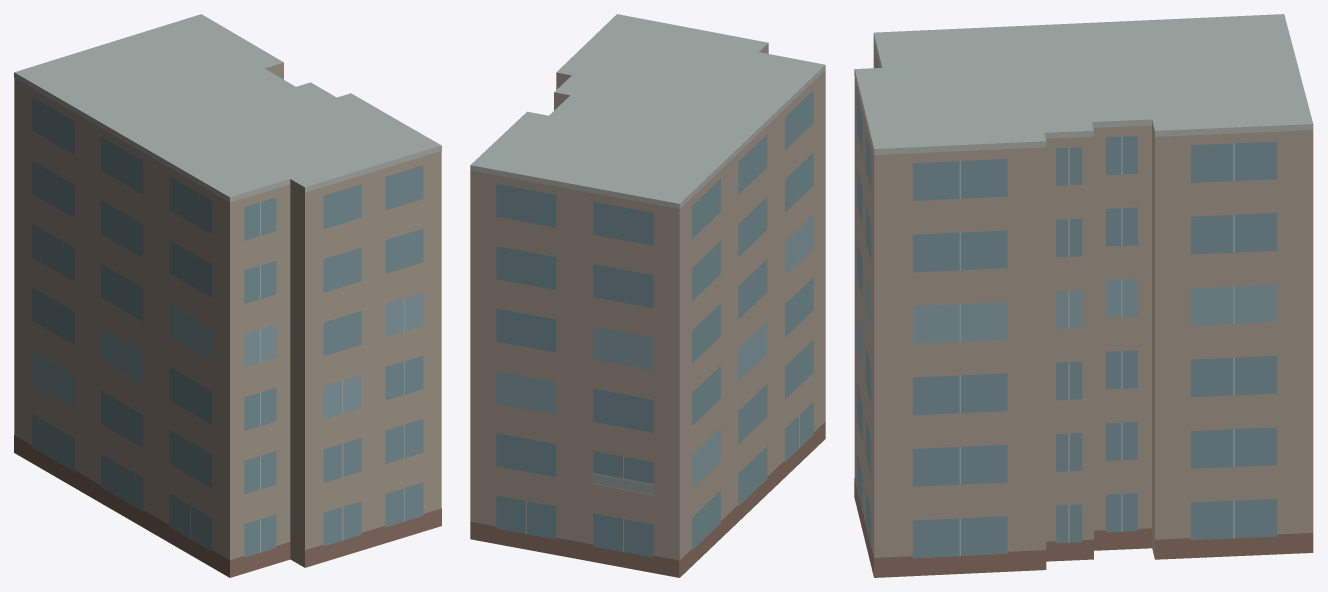
File: survey-upis-32982602.glb
3 renders of one model, left to right at view 1: azimuth 30°, elevation 25°; view 2: azimuth 150°, elevation 25°; view 3: azimuth 270°, elevation 25°, orthographic. The views are drawn at different scales.
Parts seen in each view (by area): view 1: survey-upis-32982602.tmp; view 2: survey-upis-32982602.tmp; view 3: survey-upis-32982602.tmp.
Part boxes in pixels (x1,y1,x2,y2): survey-upis-32982602.tmp: [14, 14, 441, 577]; survey-upis-32982602.tmp: [470, 14, 825, 577]; survey-upis-32982602.tmp: [854, 14, 1313, 577].
Size of the model in its own units: 11.77 by 17.4 by 16.88.
